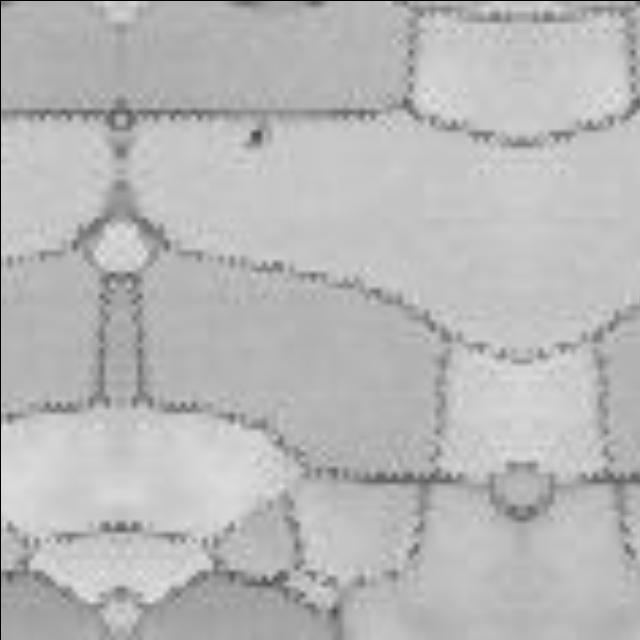good_void: (240, 121, 268, 149)
